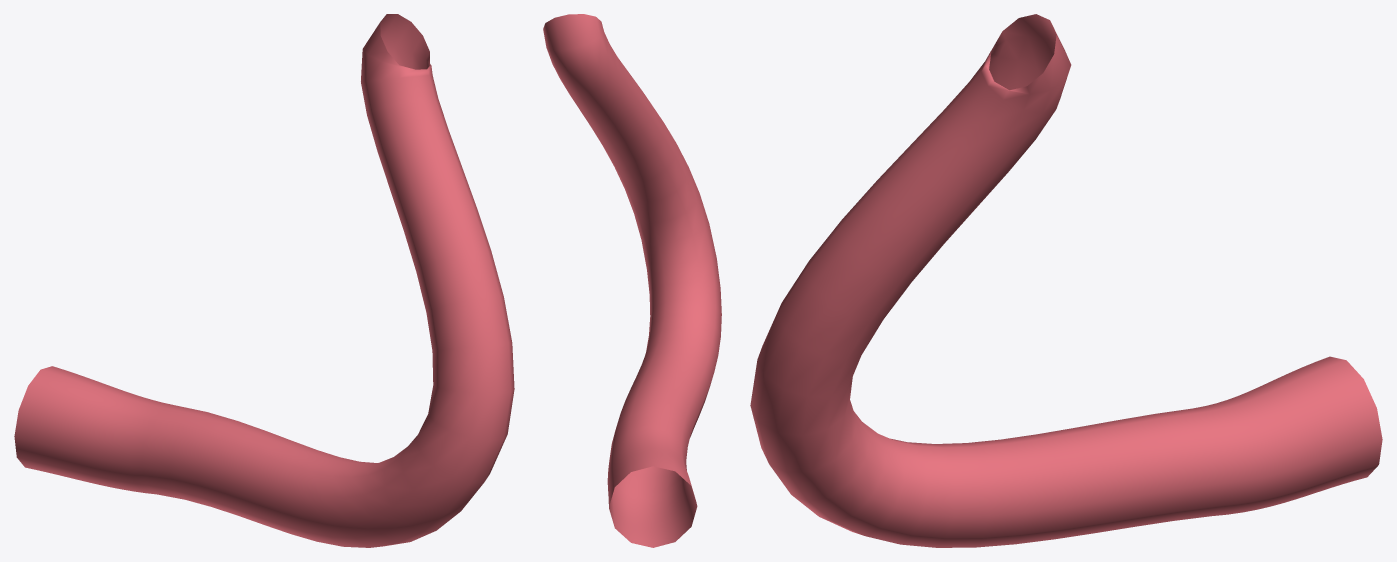
3 renders of one model, left to right at view 1: azimuth 30°, elevation 25°; view 2: azimuth 150°, elevation 25°; view 3: azimuth 270°, elevation 25°, orthographic. The views are drawn at different scales.
Parts seen in each view (by area): view 1: ZA_56eae1ccf1324691; view 2: ZA_56eae1ccf1324691; view 3: ZA_56eae1ccf1324691.
Part boxes in pixels (<box>): ZA_56eae1ccf1324691: <box>14,14,514,547</box>; ZA_56eae1ccf1324691: <box>543,14,721,547</box>; ZA_56eae1ccf1324691: <box>750,14,1382,547</box>.
Size of the model in its own units: 0.00975 by 0.0154 by 0.015.
